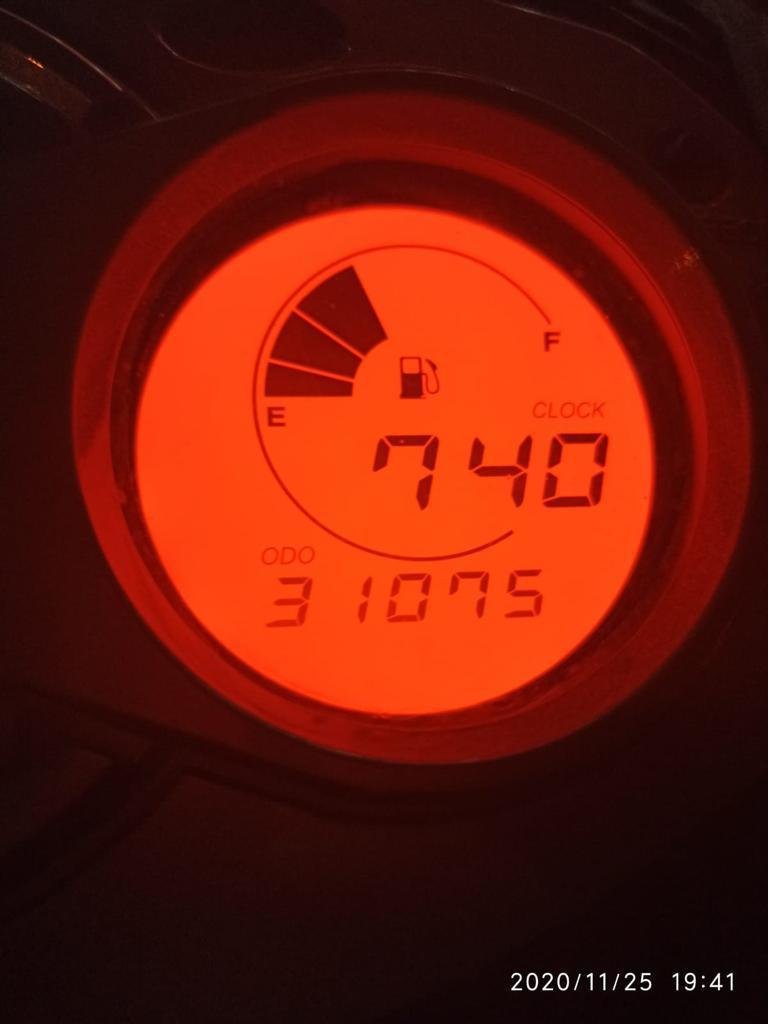0: (541, 431, 609, 510), (385, 572, 432, 624)
1: (355, 574, 373, 624)
3: (264, 575, 313, 628)
4: (467, 433, 532, 508)
5: (502, 567, 543, 619)
7: (371, 432, 441, 512), (448, 570, 490, 620)
X: (265, 404, 288, 428), (542, 329, 560, 351), (260, 546, 278, 565), (297, 545, 314, 565), (279, 546, 295, 565), (532, 400, 546, 418), (560, 401, 575, 417), (576, 401, 590, 418), (592, 400, 605, 417), (548, 402, 558, 418)
odometer: (127, 198, 663, 729)
